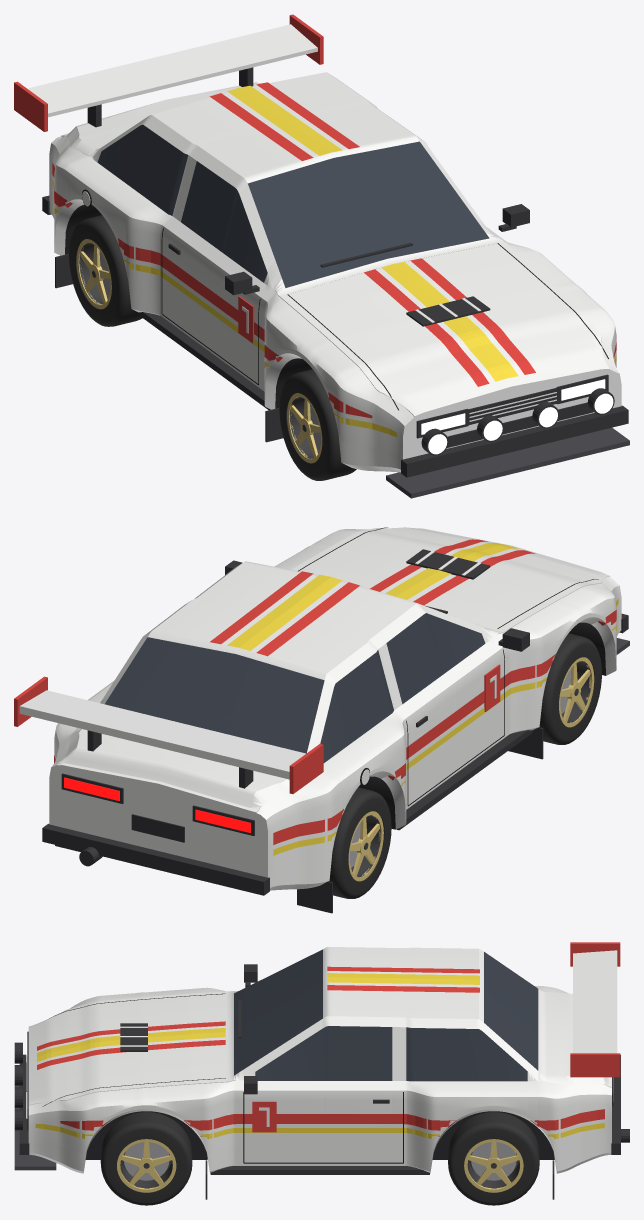
The model's file is my-rally-car.glb.
The picture shows the model from 3 angles, top to bottom: view 1: azimuth 30°, elevation 25°; view 2: azimuth 150°, elevation 25°; view 3: azimuth 270°, elevation 25°; orthographic projection. The views are drawn at different scales.
Visible parts, largest first — view 1: Body, Wheel_FR, Wheel_RR; view 2: Body, Wheel_FR, Wheel_RR; view 3: Body, Wheel_FL, Wheel_RL.
Boxes of the visible parts, x1=… form: Body: x1=14, y1=14, x2=629, y2=498; Wheel_FR: x1=279, y1=369, x2=356, y2=480; Wheel_RR: x1=68, y1=215, x2=142, y2=326; Body: x1=14, y1=527, x2=629, y2=913; Wheel_FR: x1=539, y1=633, x2=601, y2=744; Wheel_RR: x1=329, y1=787, x2=391, y2=898; Body: x1=14, y1=942, x2=629, y2=1199; Wheel_FL: x1=100, y1=1111, x2=192, y2=1205; Wheel_RL: x1=448, y1=1112, x2=539, y2=1205.
Bounding box in the file's own units: 2.03 × 1.39 × 4.43.
